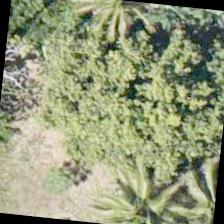Kelapa_Sawit: (96, 161, 194, 223)
